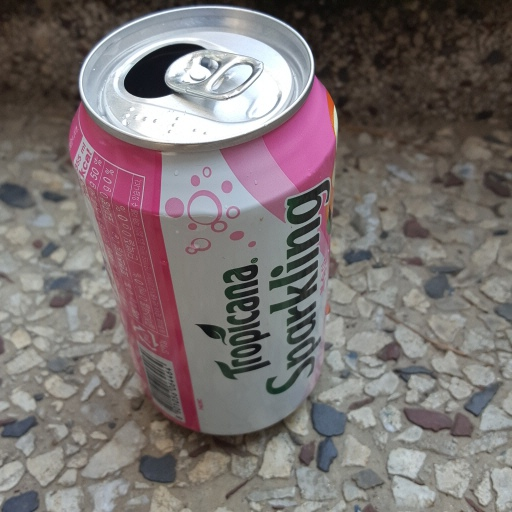Metal_0: (68, 6, 341, 444)
